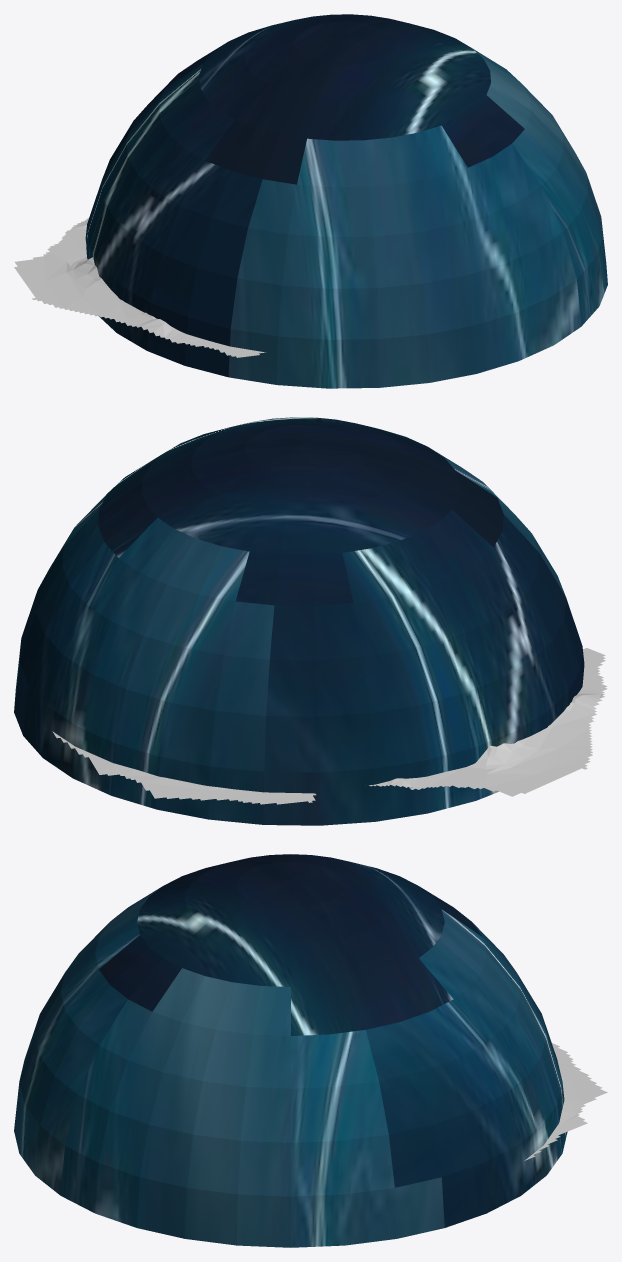
Rendered from Proluxiraz_2.gltf.
3 renders of one model, top to bottom at view 1: azimuth 30°, elevation 25°; view 2: azimuth 150°, elevation 25°; view 3: azimuth 270°, elevation 25°, orthographic. The views are drawn at different scales.
Parts seen in each view (by area): view 1: Sphere, mountain1, mountain2; view 2: Sphere, mountain1, mountain3, mountain2; view 3: Sphere, mountain3.
Part boxes in pixels (x1,y1,x2,y2): Sphere: (85,14,607,388); mountain1: (14,252,265,357); mountain2: (47,218,88,265); Sphere: (14,417,584,825); mountain1: (409,648,607,796); mountain3: (52,731,316,804); mountain2: (369,767,495,788); Sphere: (14,854,567,1247); mountain3: (524,1043,607,1160).
Bounding box in the file's own units: 1610 × 713 × 1528.
